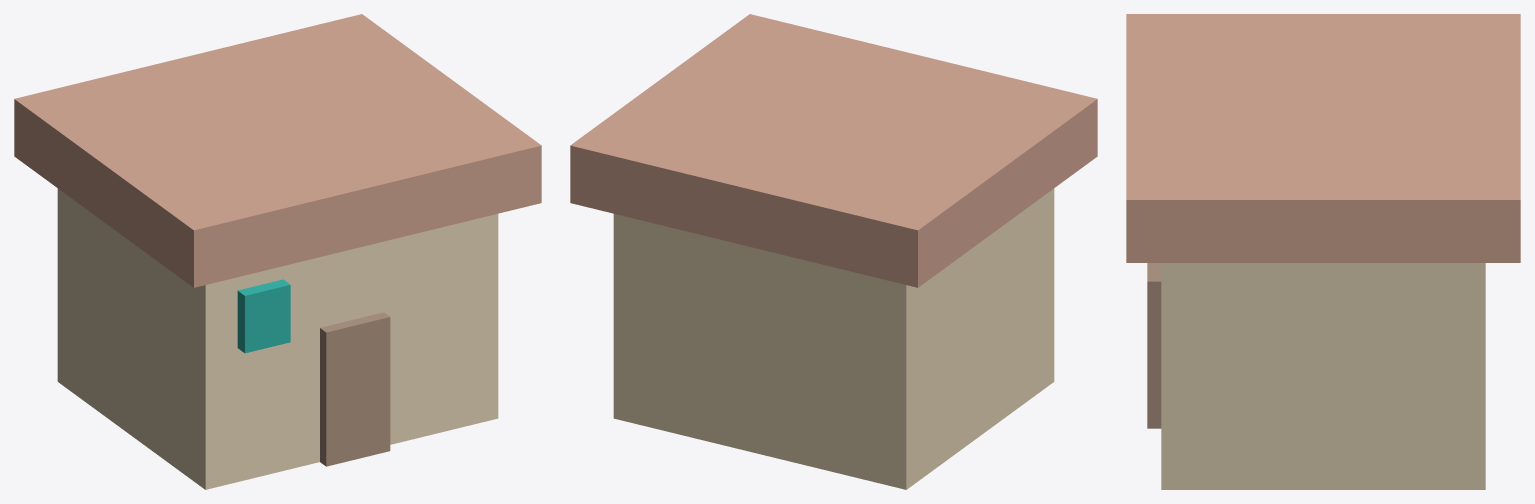
File: house.gltf
3 renders of one model, left to right at view 1: azimuth 30°, elevation 25°; view 2: azimuth 150°, elevation 25°; view 3: azimuth 270°, elevation 25°, orthographic. The views are drawn at different scales.
Size of the model in its own units: 1.9 by 1.45 by 1.7.
